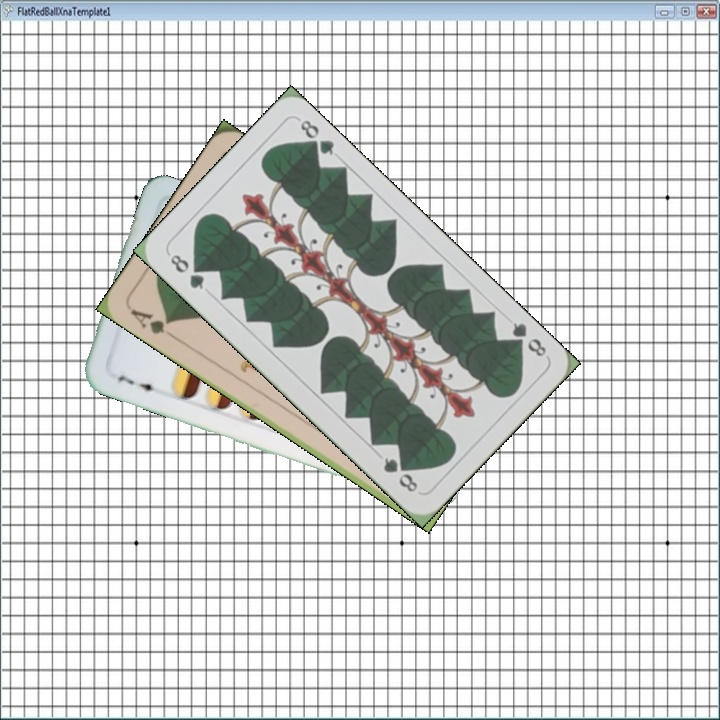E7: (114, 371, 160, 397)
G8: (505, 318, 549, 360), (166, 250, 207, 292)
GA: (126, 304, 179, 342)
